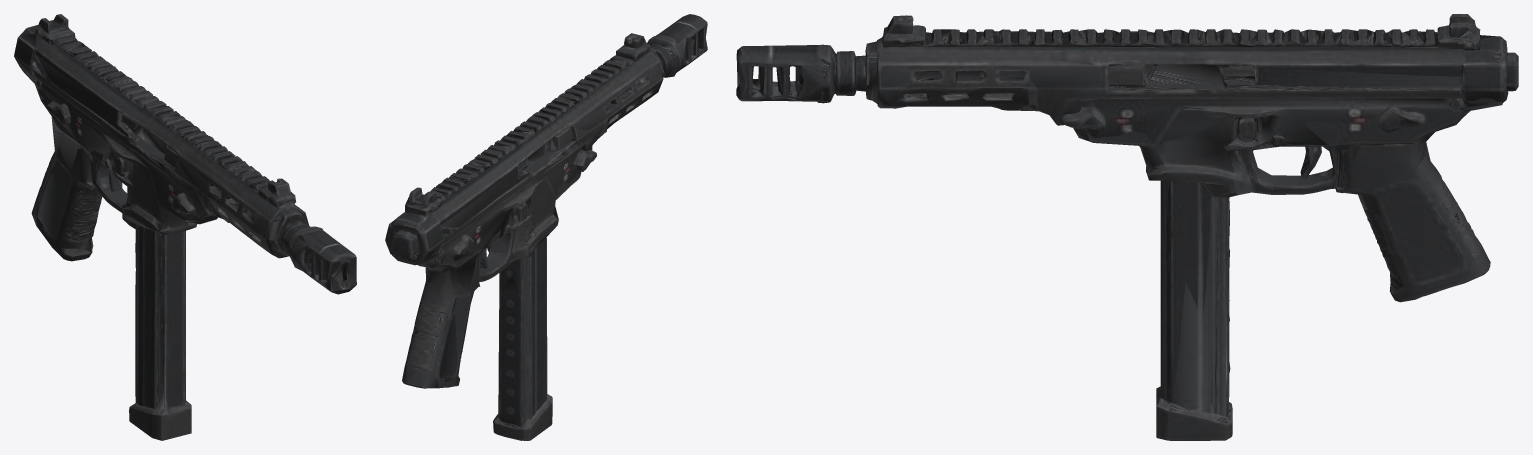
Rendered from machine_pistol_mod.glb.
3 renders of one model, left to right at view 1: azimuth 30°, elevation 25°; view 2: azimuth 150°, elevation 25°; view 3: azimuth 270°, elevation 25°, orthographic. The views are drawn at different scales.
Parts seen in each view (by area): view 1: model, mesh_lod; view 2: model, mesh_lod; view 3: model, mesh_lod.
Boxes of the visible parts, x1=… form: model: x1=14, y1=14, x2=356, y2=440; mesh_lod: x1=19, y1=18, x2=356, y2=437; model: x1=385, y1=14, x2=707, y2=440; mesh_lod: x1=387, y1=14, x2=706, y2=440; model: x1=736, y1=14, x2=1518, y2=440; mesh_lod: x1=737, y1=14, x2=1509, y2=440.
Size of the model in its own units: 0.0314 by 0.1865 by 0.32.
1 material, 1 textured.
